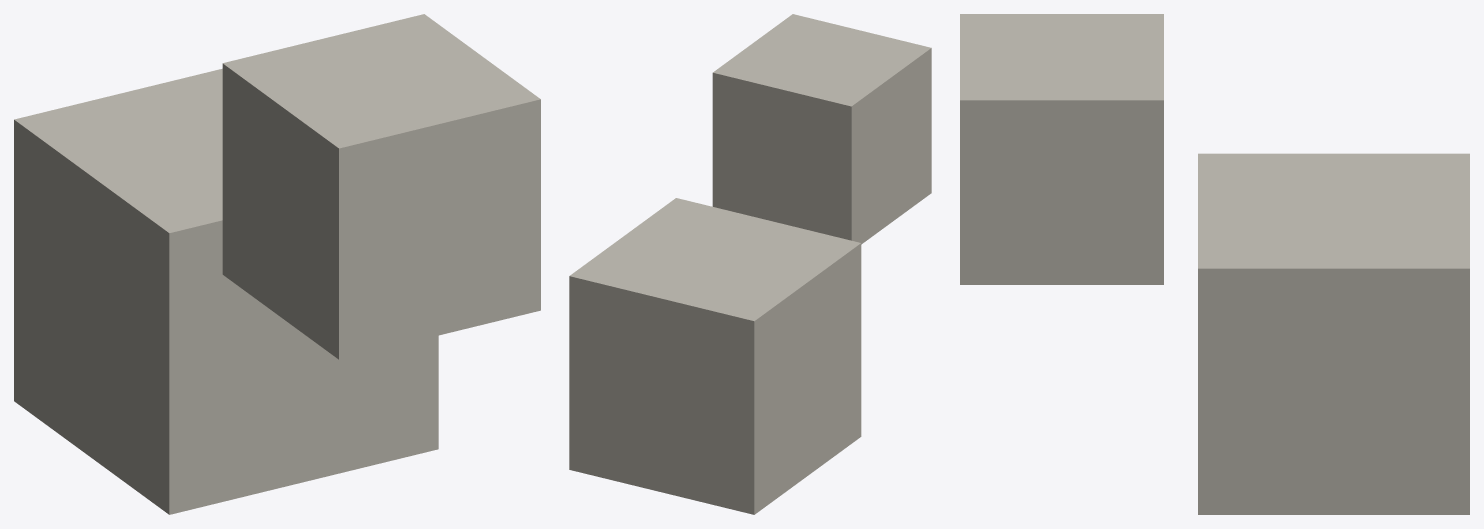
The model's file is fx_cough.glb.
3 renders of one model, left to right at view 1: azimuth 30°, elevation 25°; view 2: azimuth 150°, elevation 25°; view 3: azimuth 270°, elevation 25°, orthographic. The views are drawn at different scales.
Parts seen in each view (by area): view 1: fx_cough; view 2: fx_cough; view 3: fx_cough.
Part boxes in pixels (bbox=[...]): fx_cough: bbox=[14, 14, 540, 514]; fx_cough: bbox=[569, 14, 931, 514]; fx_cough: bbox=[960, 14, 1469, 514].
Size of the model in its own units: 0.08 by 0.13 by 0.15.
Materials: 1 (1 with a texture image).
